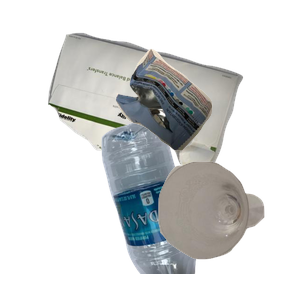glass: (156, 159, 300, 300)
paper: (45, 30, 281, 195)
plastic: (99, 120, 289, 300)
trash: (113, 46, 300, 189)
